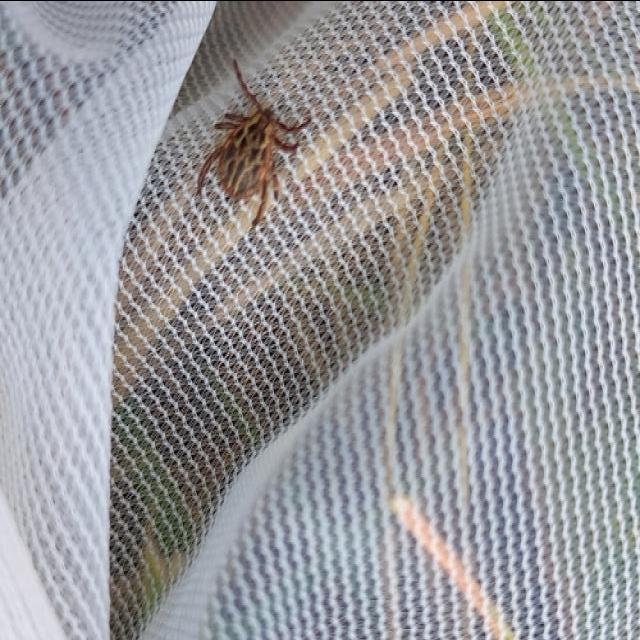Dermacentor Reticulatus-M: (196, 58, 312, 230)
